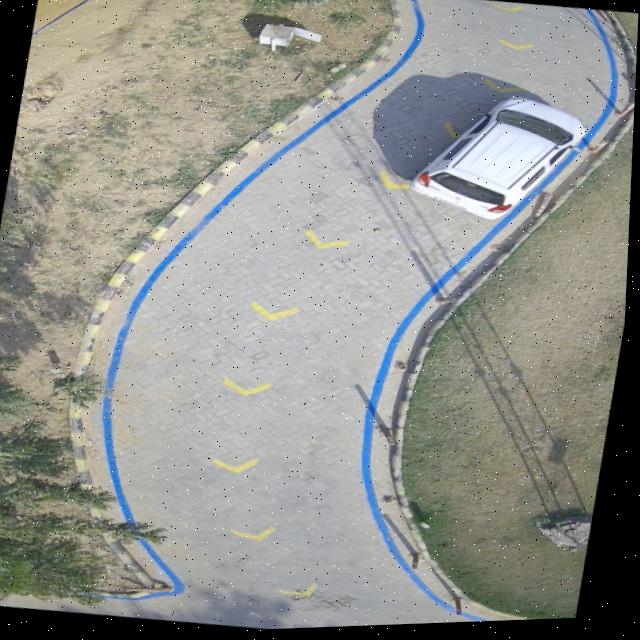car: (410, 100, 588, 223)
